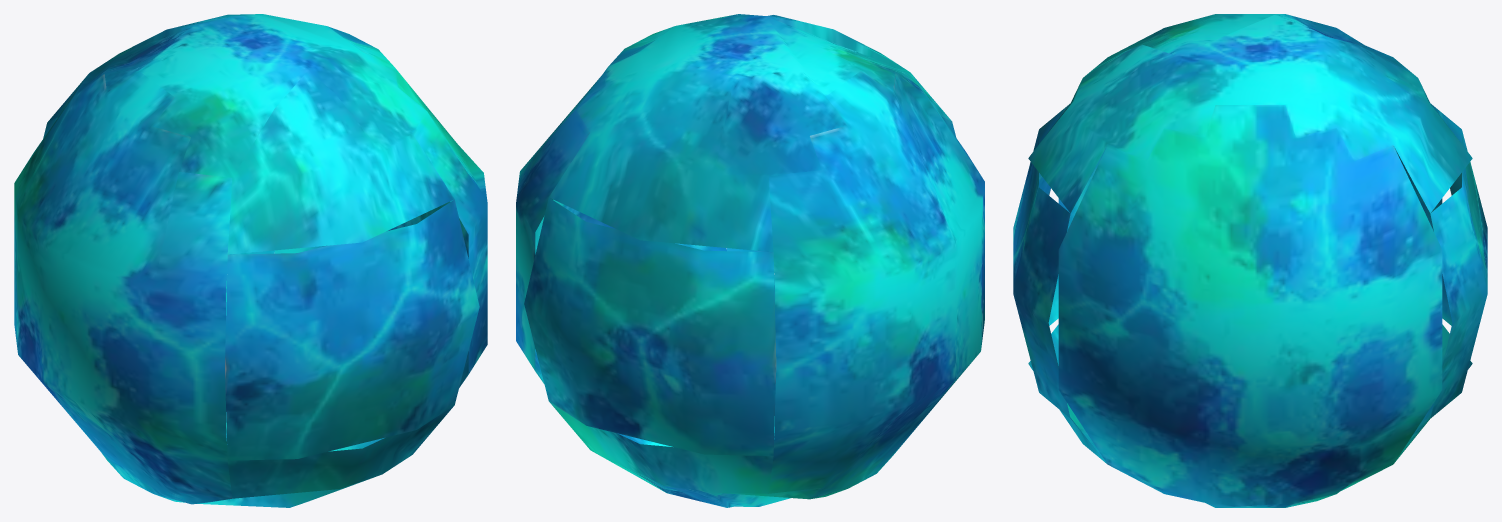
Rendered from big_sphereCelestialPrism_lowPoly.glb.
3 views of the same model, side by side, from view 1: azimuth 30°, elevation 25°; view 2: azimuth 150°, elevation 25°; view 3: azimuth 270°, elevation 25° (orthographic).
Visible parts, largest first — view 1: polySurface15; view 2: polySurface15; view 3: polySurface15.
Boxes of the visible parts, <box> form: polySurface15: <box>14,14,487,507</box>; polySurface15: <box>516,14,984,507</box>; polySurface15: <box>1013,14,1487,507</box>.
Bounding box in the file's own units: 1.86 × 1.89 × 1.86.
Materials: 1 (1 with a texture image).
